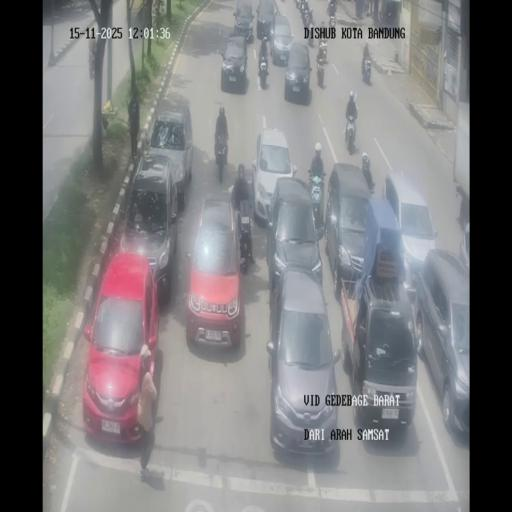3: (452, 109, 470, 221)
car: (82, 251, 160, 442), (267, 270, 339, 458), (342, 267, 418, 436), (414, 251, 469, 442), (186, 195, 245, 346), (119, 152, 180, 296), (382, 172, 438, 291), (326, 163, 374, 293), (252, 125, 295, 225), (220, 34, 250, 94), (284, 42, 312, 104), (270, 14, 294, 65), (232, 0, 254, 44), (256, 0, 276, 41)
truck: (309, 172, 325, 230), (238, 211, 254, 269), (214, 129, 228, 180), (345, 114, 357, 152), (258, 50, 269, 89), (362, 164, 375, 193), (361, 52, 372, 84), (316, 53, 326, 88), (307, 17, 316, 43), (88, 47, 95, 79), (302, 0, 311, 20), (328, 11, 336, 31), (362, 0, 370, 17), (378, 9, 384, 24), (294, 0, 302, 11)
